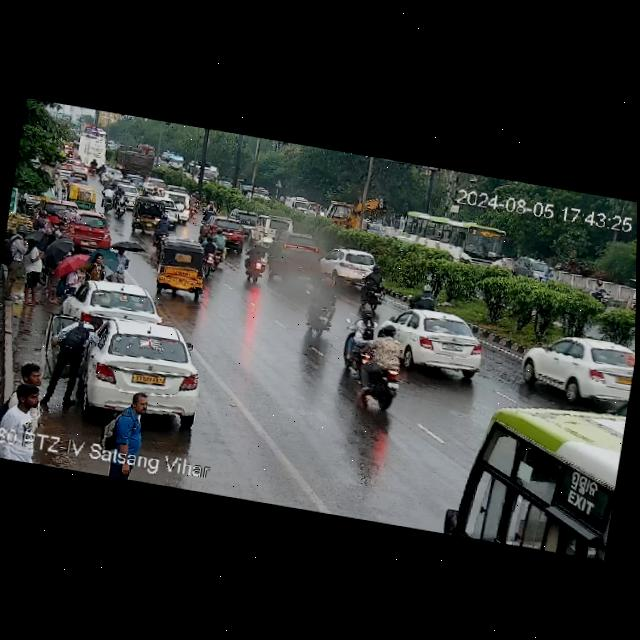bus: (452, 391, 626, 562), (399, 212, 515, 274), (185, 159, 219, 185), (158, 149, 189, 177)
car: (52, 310, 211, 430), (519, 329, 635, 409), (382, 306, 491, 380), (67, 277, 163, 332), (149, 237, 213, 301), (57, 209, 115, 251), (325, 247, 384, 285), (130, 196, 175, 233), (142, 191, 194, 223), (199, 216, 249, 247), (63, 181, 103, 212), (511, 253, 548, 280), (366, 220, 388, 239), (392, 233, 414, 245)
motorcycle: (352, 354, 409, 416), (300, 274, 341, 342), (341, 306, 379, 368), (358, 269, 392, 314), (243, 240, 269, 284), (410, 279, 439, 309), (152, 211, 172, 252), (200, 234, 219, 276), (211, 226, 230, 267), (590, 281, 618, 308), (100, 184, 117, 214), (115, 192, 130, 219), (111, 186, 122, 211), (544, 265, 560, 282), (188, 192, 199, 216), (193, 189, 204, 210), (88, 160, 100, 177), (89, 158, 99, 175), (204, 204, 216, 218), (107, 171, 116, 188), (98, 162, 107, 179), (80, 176, 89, 186), (208, 199, 217, 206)
person: (46, 307, 100, 410), (104, 388, 156, 455), (11, 228, 56, 304), (0, 226, 36, 301), (0, 381, 44, 439), (44, 252, 70, 307), (109, 245, 133, 287), (89, 250, 113, 283), (17, 360, 46, 387), (62, 268, 84, 296), (34, 207, 52, 226), (52, 172, 63, 195), (54, 221, 66, 236), (66, 172, 77, 186), (61, 178, 69, 195)
truck: (7, 430, 197, 491), (324, 188, 382, 231), (108, 147, 160, 179), (68, 132, 110, 167), (138, 144, 156, 158)
